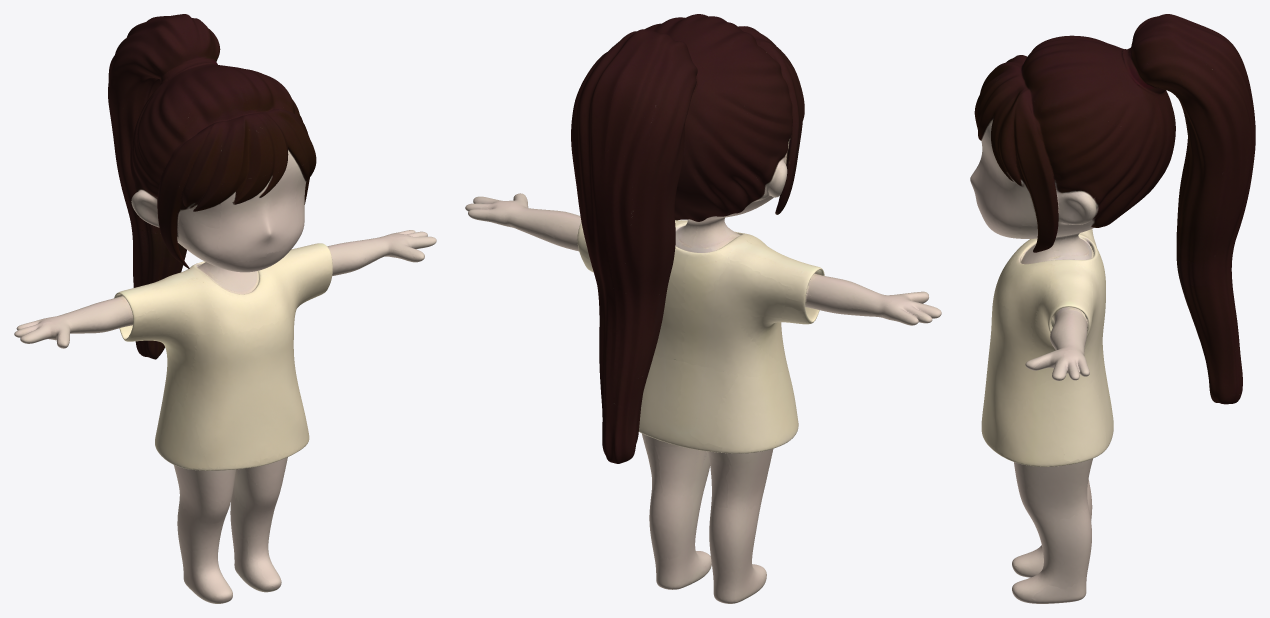
File: baked_hair_pony.glb
3 renders of one model, left to right at view 1: azimuth 30°, elevation 25°; view 2: azimuth 150°, elevation 25°; view 3: azimuth 270°, elevation 25°, orthographic. The views are drawn at different scales.
Bounding box in the file's own units: 1.55 × 1.9 × 0.8654.
1 material, 1 textured.
